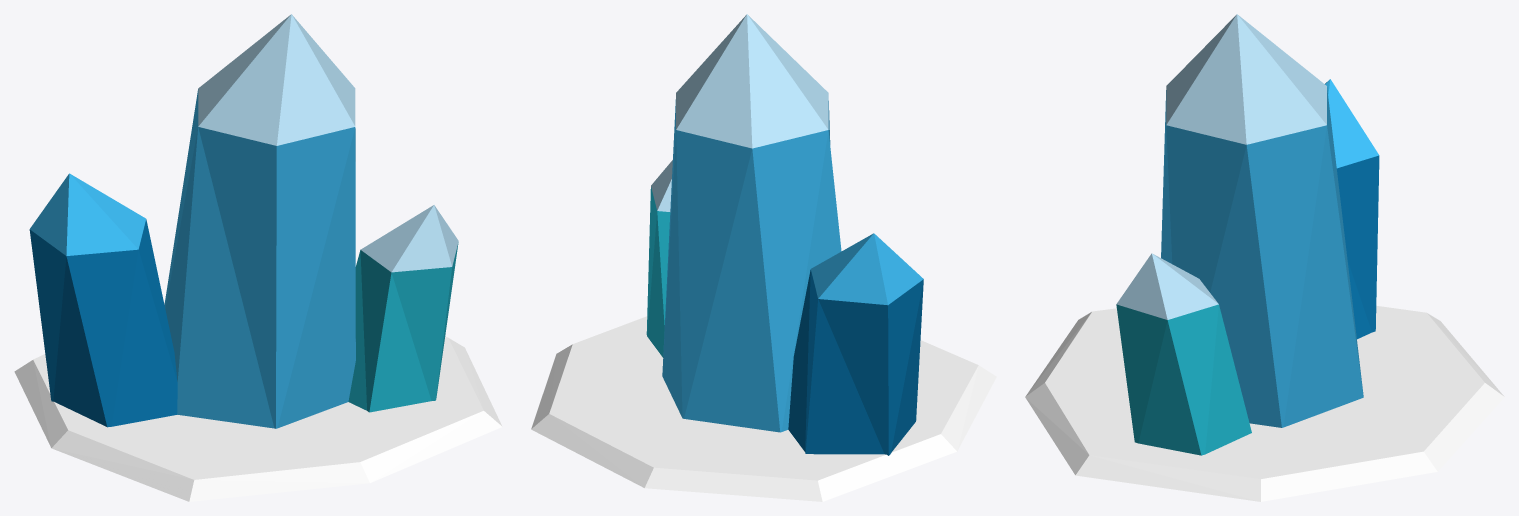
Rendered from ice_crystal.fbx.
3 renders of one model, left to right at view 1: azimuth 30°, elevation 25°; view 2: azimuth 150°, elevation 25°; view 3: azimuth 270°, elevation 25°, orthographic. The views are drawn at different scales.
Parts seen in each view (by area): view 1: IceCrystal; view 2: IceCrystal; view 3: IceCrystal.
Part boxes in pixels (<box>): IceCrystal: <box>14,14,502,501</box>; IceCrystal: <box>531,14,996,501</box>; IceCrystal: <box>1025,14,1504,501</box>.
Size of the model in its own units: 2.46 by 2.2 by 2.42.
